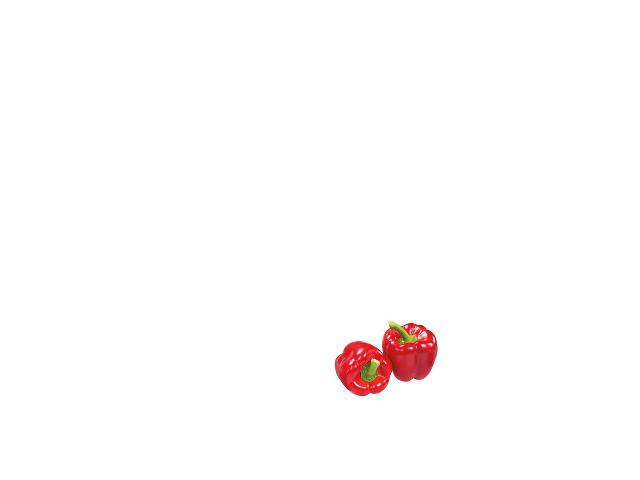bell_pepper: (380, 319, 439, 386)
